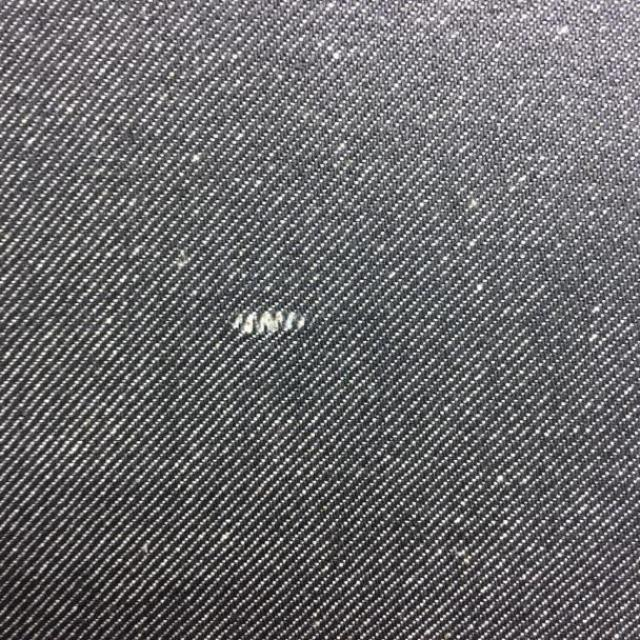Knot: (232, 312, 306, 334)
